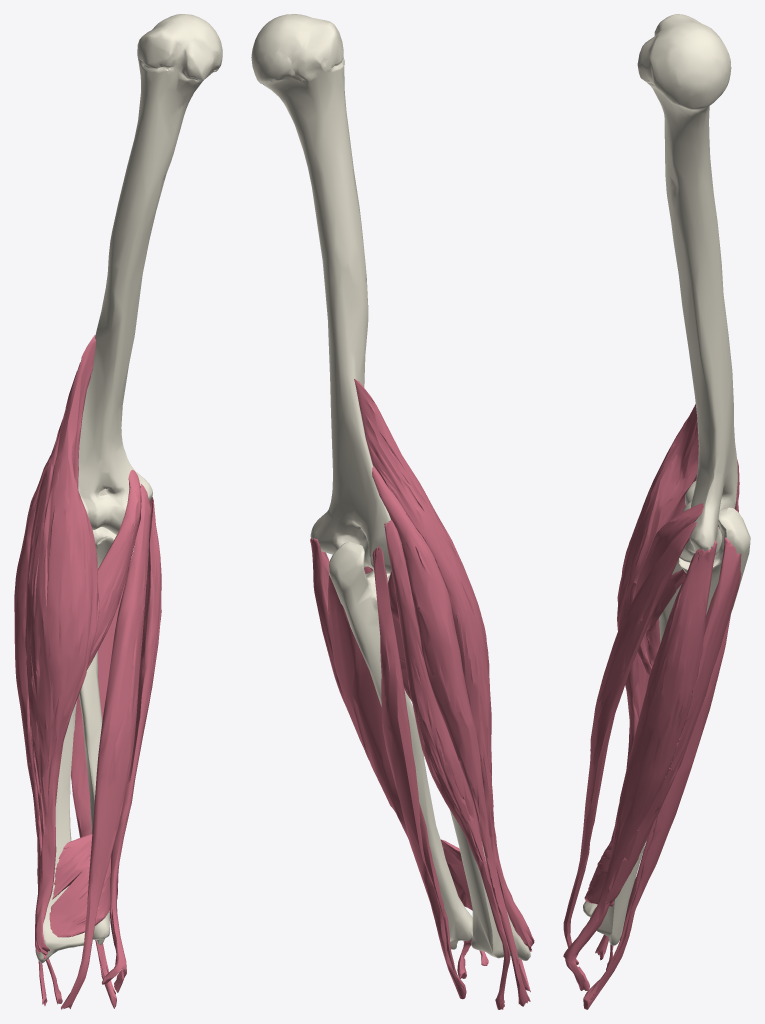
File: forearm.glb
3 renders of one model, left to right at view 1: azimuth 30°, elevation 25°; view 2: azimuth 150°, elevation 25°; view 3: azimuth 270°, elevation 25°, orthographic. The views are drawn at different scales.
Parts seen in each view (by area): view 1: humerus, brachioradialis, flexor-carpi-radialis, flexor-carpi-ulnaris, pronator-quadratus, extensor-carpi-radialis-longus, pronator-teres, ulna, radius, extensor-carpi-ulnaris; view 2: humerus, brachioradialis, extensor-carpi-radialis-longus, extensor-carpi-radialis-brevis, extensor-carpi-ulnaris, ulna, flexor-carpi-ulnaris, radius, pronator-quadratus, supinator; view 3: humerus, flexor-carpi-ulnaris, flexor-carpi-radialis, brachioradialis, extensor-carpi-ulnaris, ulna, pronator-teres, pronator-quadratus, radius.
Boxes of the visible parts, <box> form: humerus: <box>78,14,222,534</box>; brachioradialis: <box>25,335,99,958</box>; flexor-carpi-radialis: <box>61,484,150,1009</box>; flexor-carpi-ulnaris: <box>97,497,161,992</box>; pronator-quadratus: <box>49,834,110,937</box>; extensor-carpi-radialis-longus: <box>14,455,50,1005</box>; pronator-teres: <box>87,470,141,669</box>; ulna: <box>79,527,116,944</box>; radius: <box>35,700,84,963</box>; extensor-carpi-ulnaris: <box>71,695,116,1008</box>; humerus: <box>251,14,401,573</box>; brachioradialis: <box>354,379,534,951</box>; extensor-carpi-radialis-longus: <box>372,466,530,1006</box>; extensor-carpi-radialis-brevis: <box>384,520,510,1009</box>; extensor-carpi-ulnaris: <box>372,546,466,999</box>; ulna: <box>329,542,472,949</box>; flexor-carpi-ulnaris: <box>310,538,488,978</box>; radius: <box>387,575,530,960</box>; pronator-quadratus: <box>440,839,472,910</box>; supinator: <box>388,571,411,701</box>; humerus: <box>637,14,737,562</box>; flexor-carpi-ulnaris: <box>563,537,741,991</box>; flexor-carpi-radialis: <box>563,522,696,947</box>; brachioradialis: <box>611,404,698,839</box>; extensor-carpi-ulnaris: <box>583,486,738,1009</box>; ulna: <box>590,507,750,945</box>; pronator-teres: <box>634,503,703,675</box>; pronator-quadratus: <box>584,838,613,906</box>; radius: <box>583,559,682,917</box>.
Size of the model in its own units: 0.1405 by 0.5654 by 0.0918.
